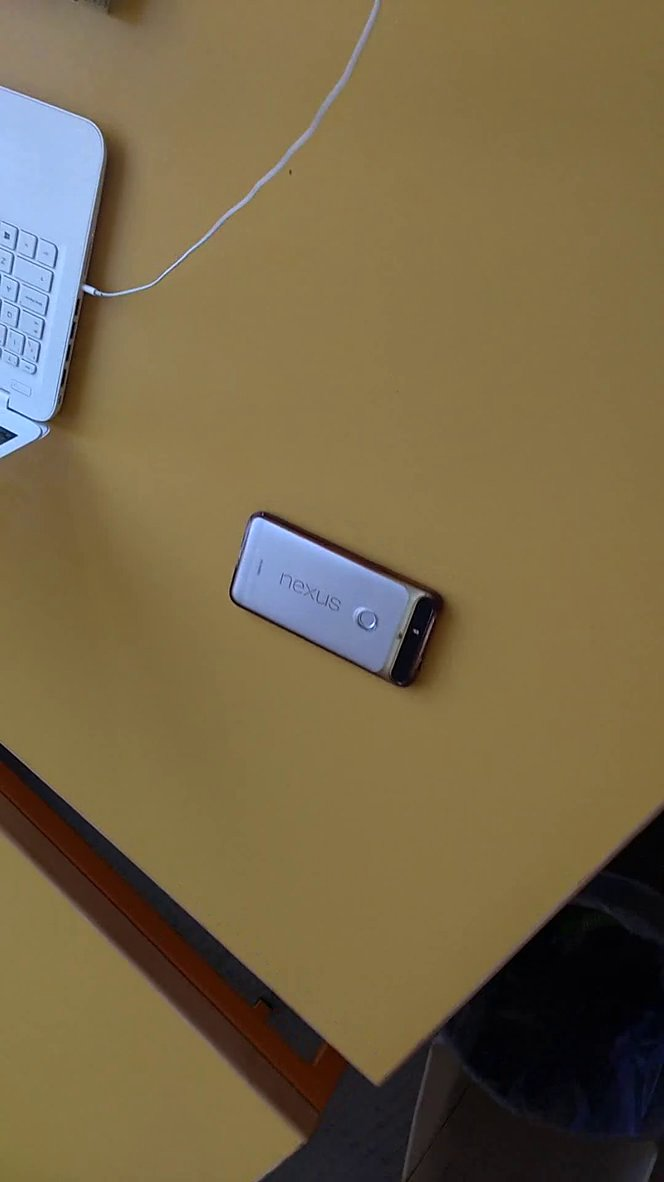phone: (214, 496, 470, 719)
